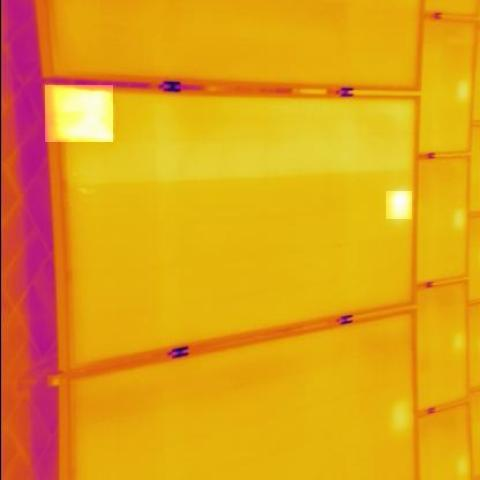fault: (45, 85, 113, 142), (386, 191, 412, 219)
